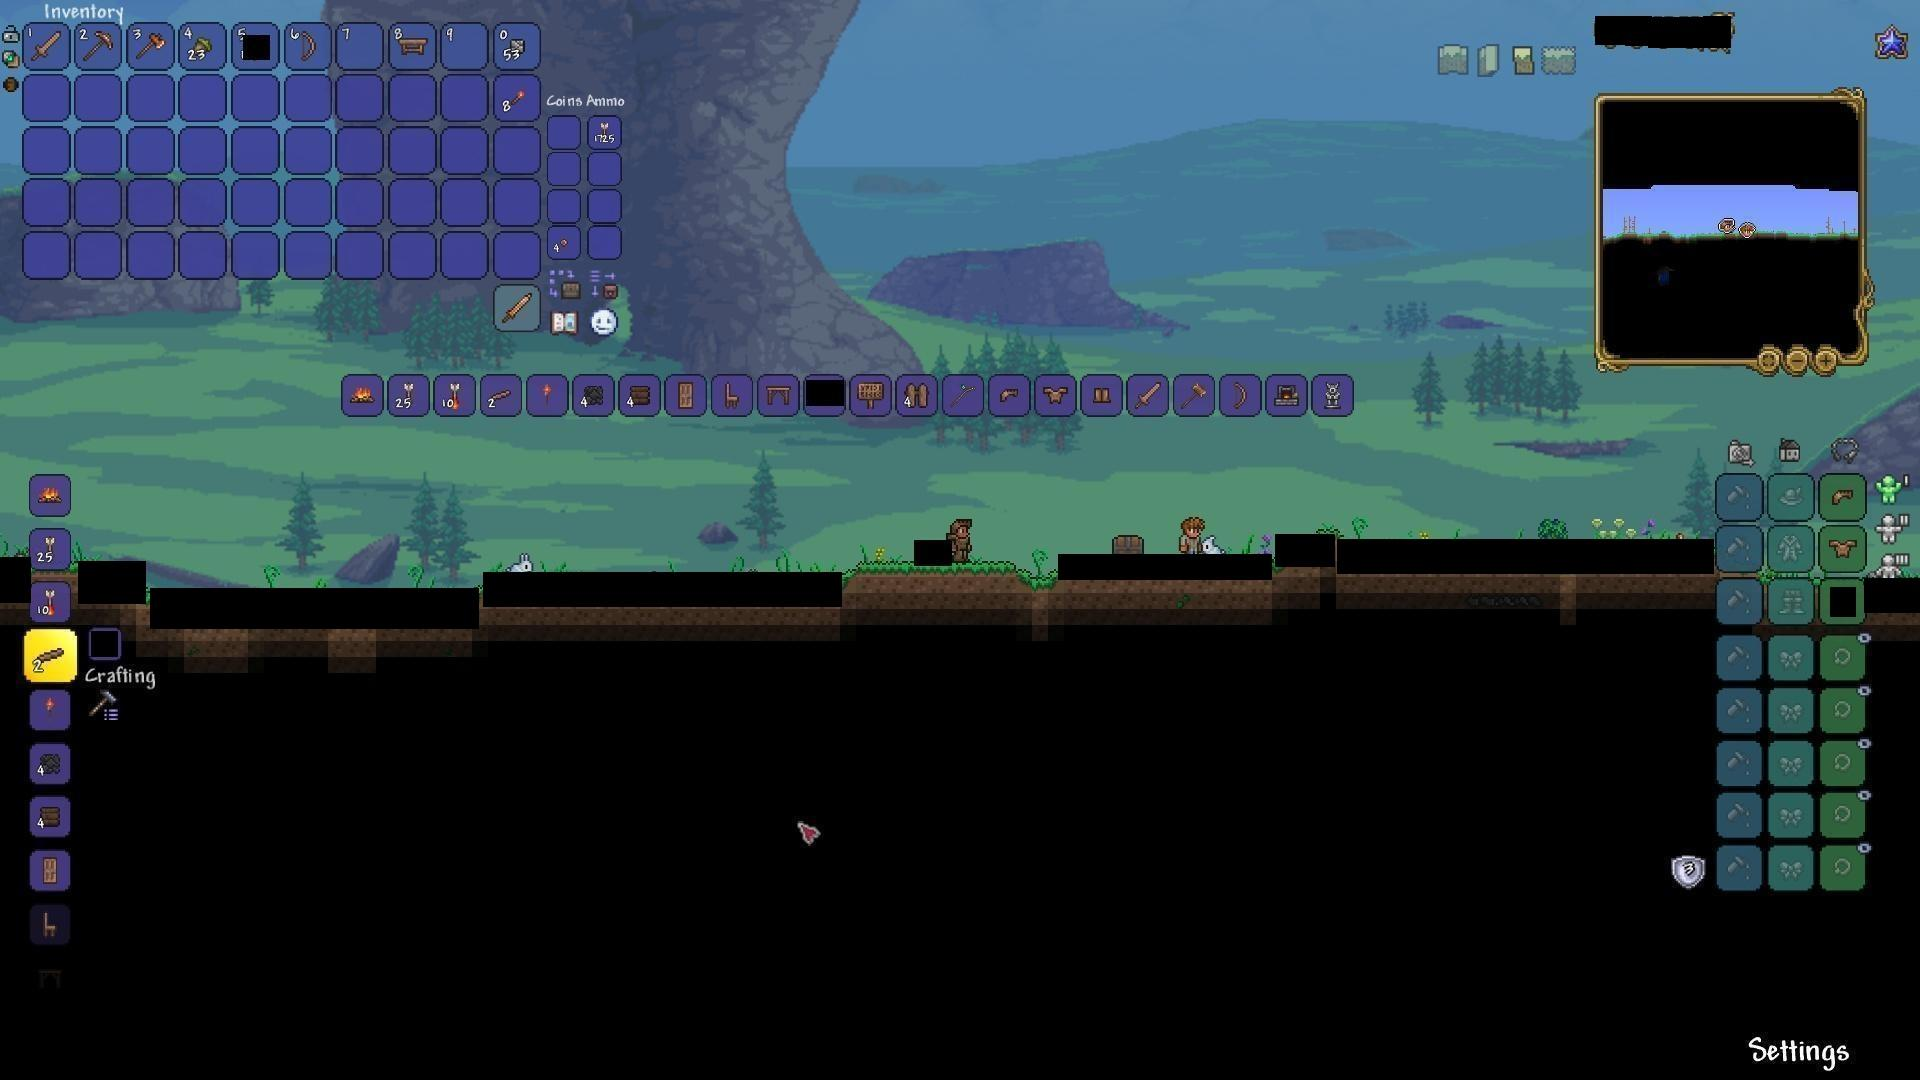breastplate: (1040, 384, 1071, 405), (1829, 538, 1859, 559)
dirt: (840, 556, 1059, 608)
helmet: (1828, 483, 1859, 512), (994, 382, 1025, 410)
legs: (1091, 381, 1116, 409)
workbench: (394, 36, 431, 61)
